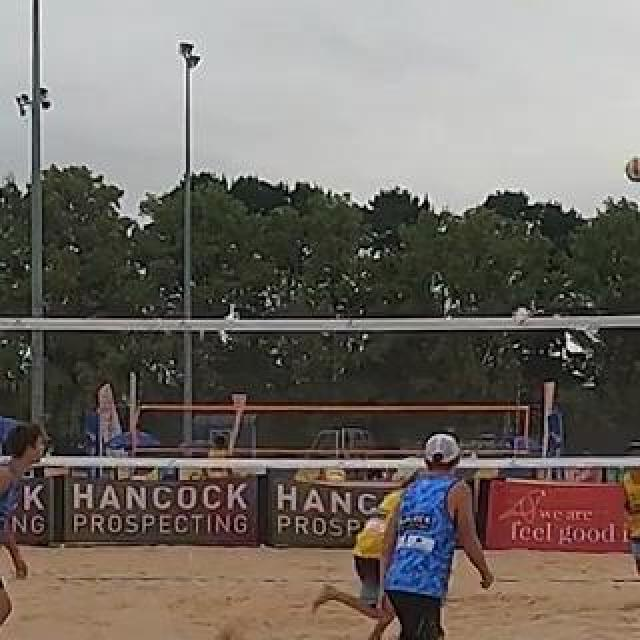volleyball: (626, 156, 640, 182)
